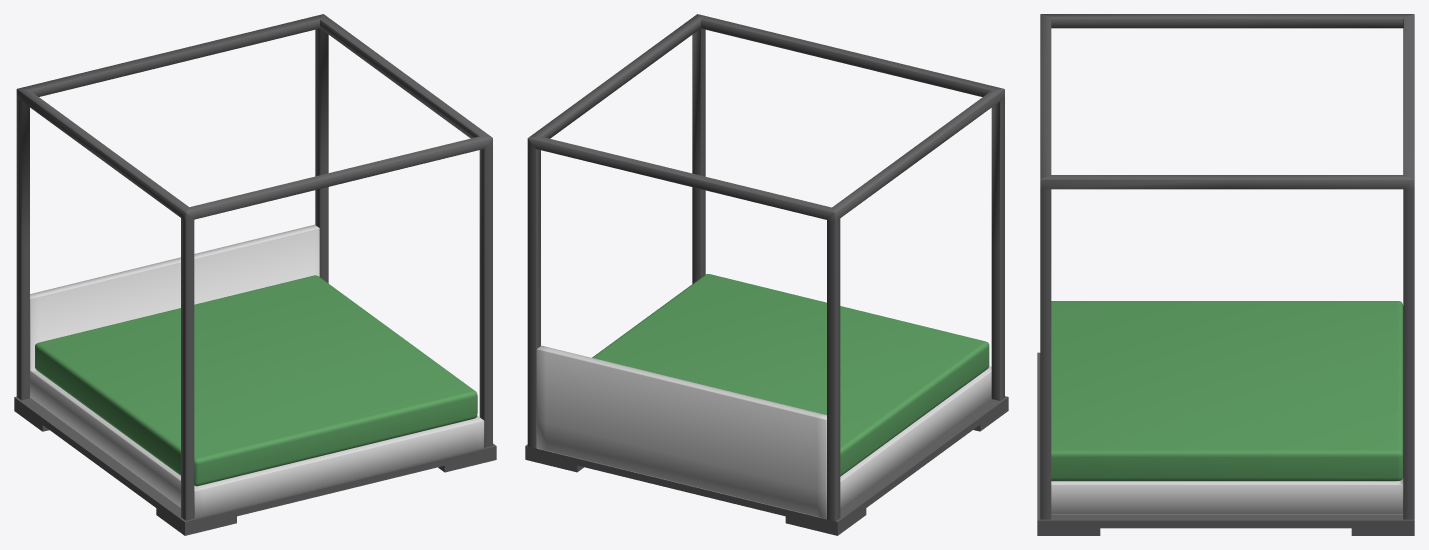
The model's file is MZBBD01.FBX.
3 views of the same model, side by side, from view 1: azimuth 30°, elevation 25°; view 2: azimuth 150°, elevation 25°; view 3: azimuth 270°, elevation 25° (orthographic). The views are drawn at different scales.
Visible parts, largest first — view 1: MZBBD01; view 2: MZBBD01; view 3: MZBBD01.
Part boxes in pixels (x1,y1,x2,y2): MZBBD01: (14,14,496,535); MZBBD01: (525,14,1008,535); MZBBD01: (1037,14,1414,535).
Size of the model in its own units: 213 by 202 by 210.
